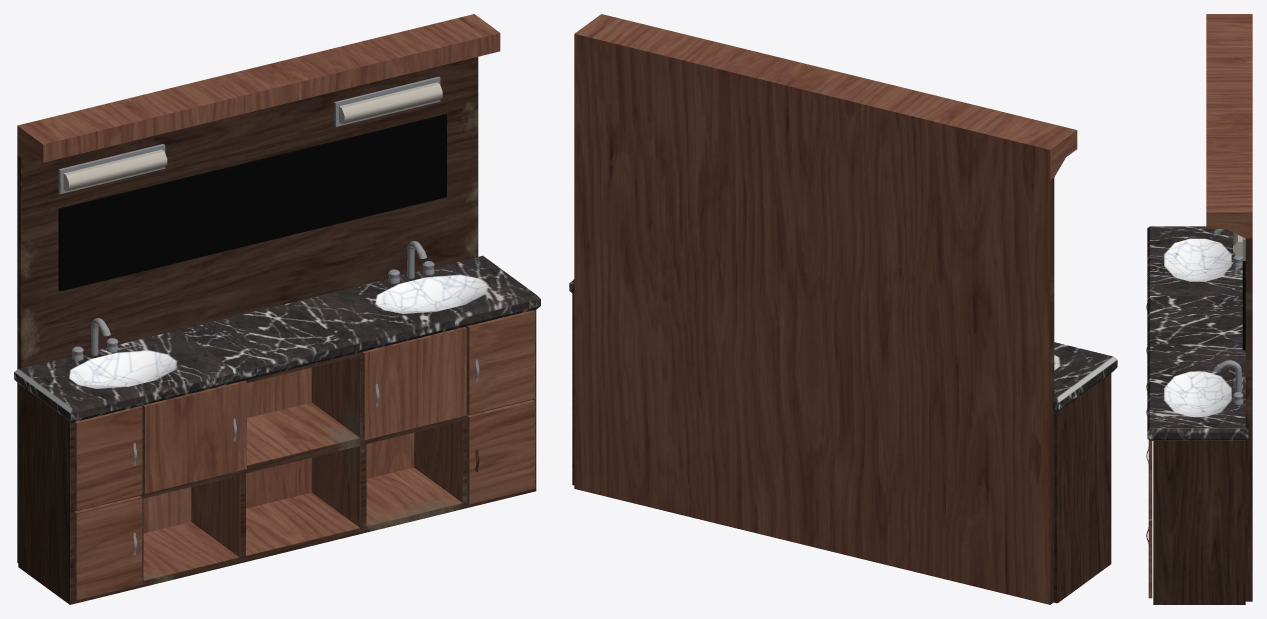
The model's file is Lavamanos 1.fbx.
3 views of the same model, side by side, from view 1: azimuth 30°, elevation 25°; view 2: azimuth 150°, elevation 25°; view 3: azimuth 270°, elevation 25° (orthographic). The views are drawn at different scales.
Visible parts, largest first — view 1: pCylinder13; view 2: pCylinder13; view 3: pCylinder13.
Boxes of the visible parts, bbox=[...] form: pCylinder13: bbox=[14, 14, 540, 604]; pCylinder13: bbox=[569, 14, 1117, 604]; pCylinder13: bbox=[1146, 14, 1252, 604].
Bounding box in the file's own units: 7.17 × 6.38 × 1.58.
